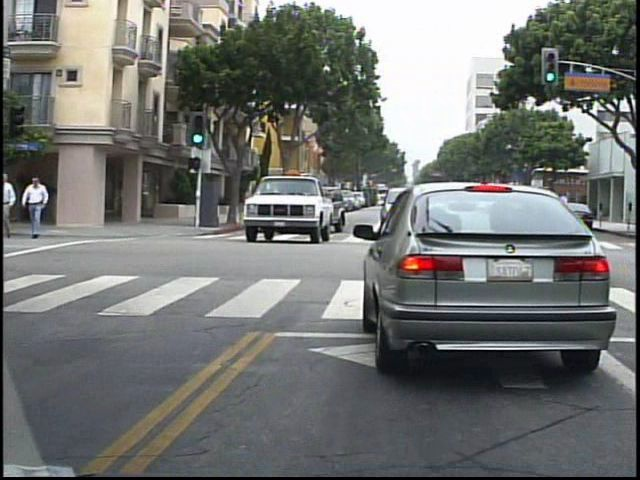person: (26, 173, 57, 243), (2, 168, 26, 242)
